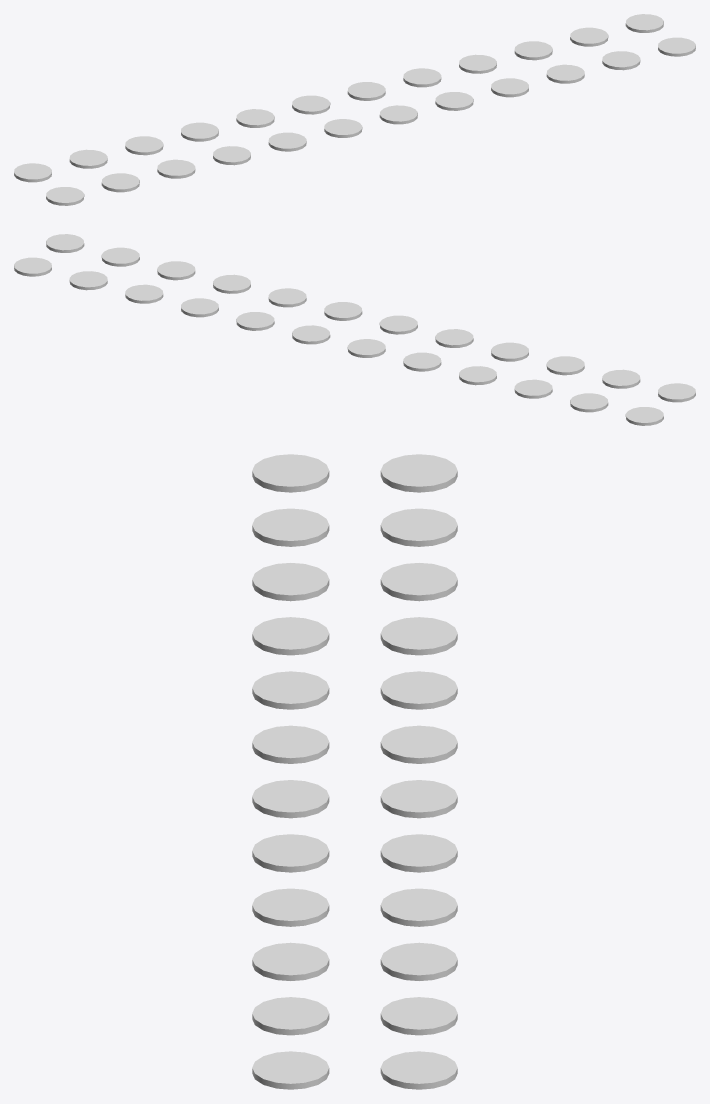
File: traffic-calming-bumps.glb
3 views of the same model, one above another, from view 1: azimuth 30°, elevation 25°; view 2: azimuth 150°, elevation 25°; view 3: azimuth 270°, elevation 25° (orthographic). The views are drawn at different scales.
Parts seen in each view (by area): view 1: traffic-calming-bumps; view 2: traffic-calming-bumps; view 3: traffic-calming-bumps.
Boxes of the visible parts, x1=… form: traffic-calming-bumps: x1=14, y1=14, x2=695, y2=205; traffic-calming-bumps: x1=14, y1=234, x2=695, y2=425; traffic-calming-bumps: x1=252, y1=454, x2=457, y2=1089.
Bounding box in the file's own units: 2.22 × 0.00961 × 0.3057.
1 material, 1 textured.
